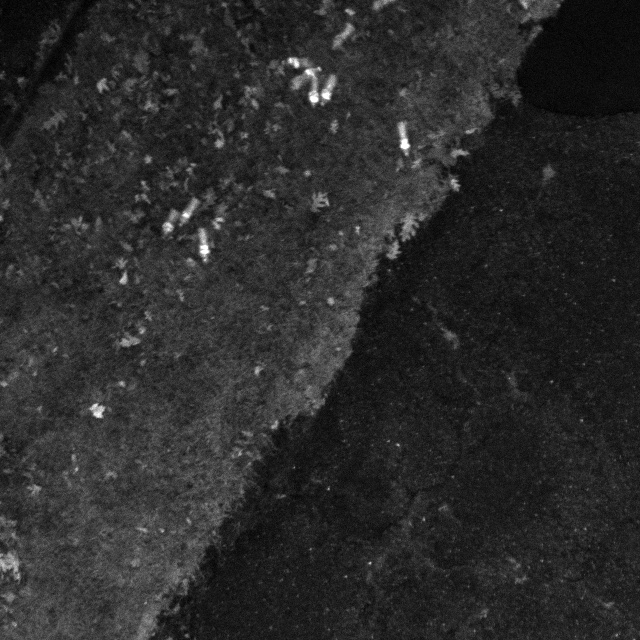bottle: (156, 194, 183, 243), (326, 24, 357, 55), (188, 227, 212, 267), (393, 124, 416, 162), (178, 196, 202, 232), (312, 75, 338, 106), (285, 53, 312, 79), (292, 67, 314, 94), (307, 74, 323, 110)
